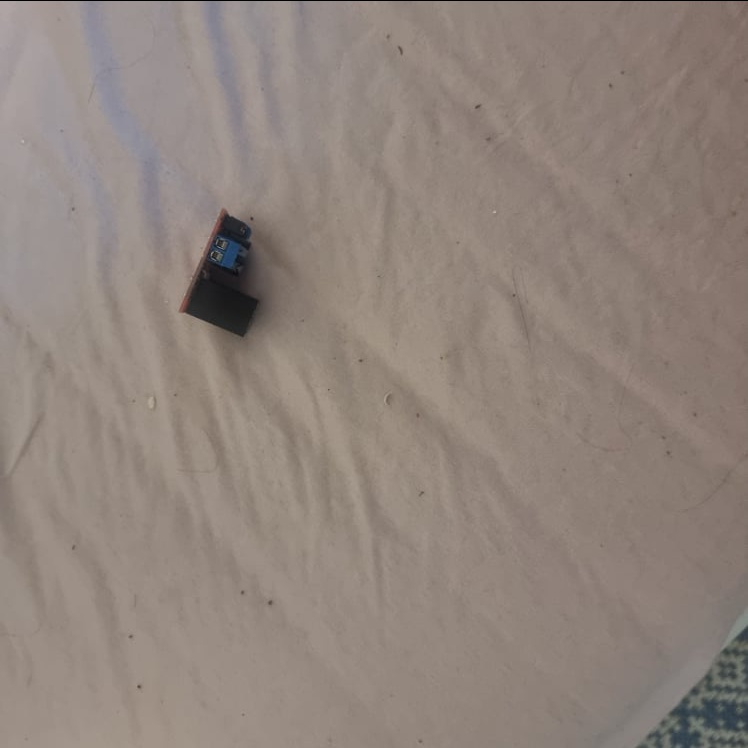MOTOR: (177, 202, 266, 340)
